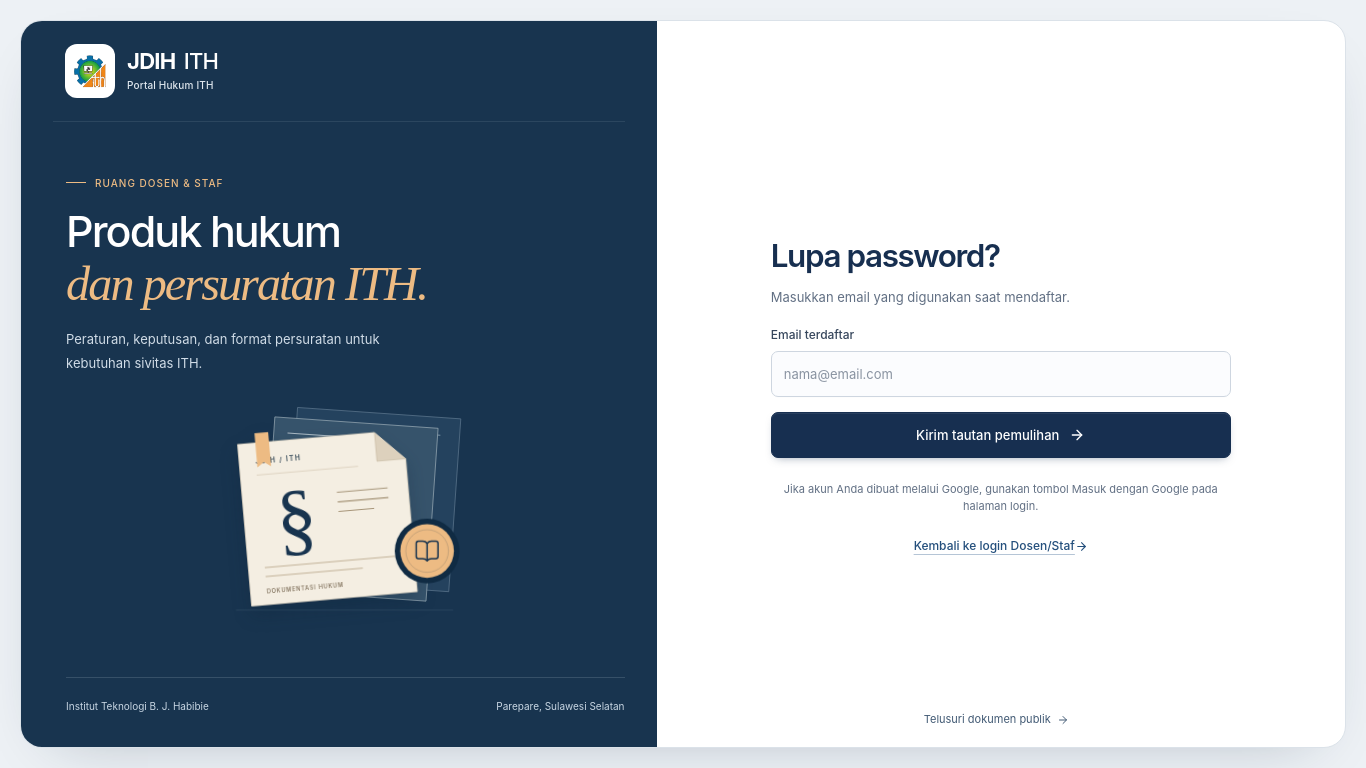
Test case: pemulihan password Dosen/Staf › meminta email dengan konfirmasi, pesan generik, dan tanpa pilihan Admin
The image size is (1366, 768).
Expected: the button "Kirim tautan pemulihan" is enabled, [771,412,1231,458]
Type "staf@example.test" into the field labelled "Email terdaftar" at (1001, 374), box [771,351,1231,397]
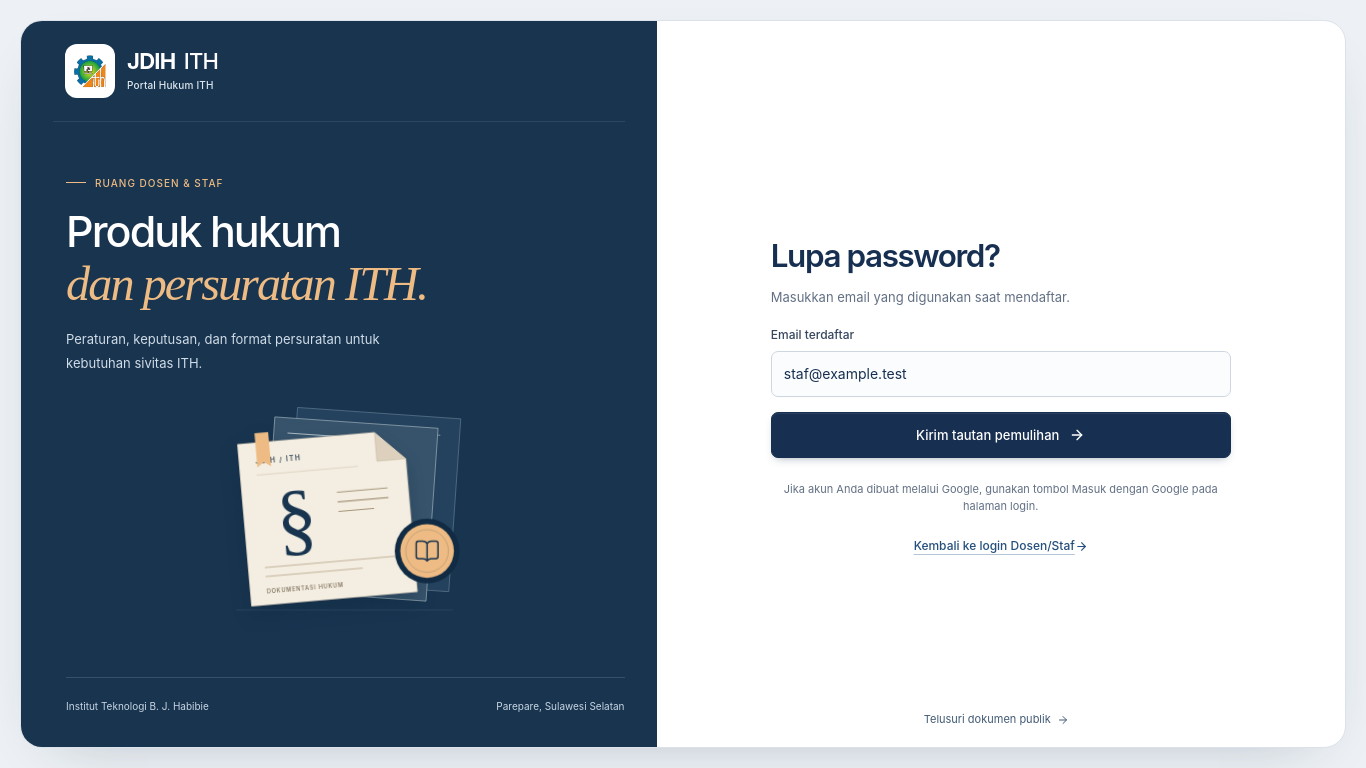
Click the button "Kirim tautan pemulihan" at (1001, 435), box [771,412,1231,458]
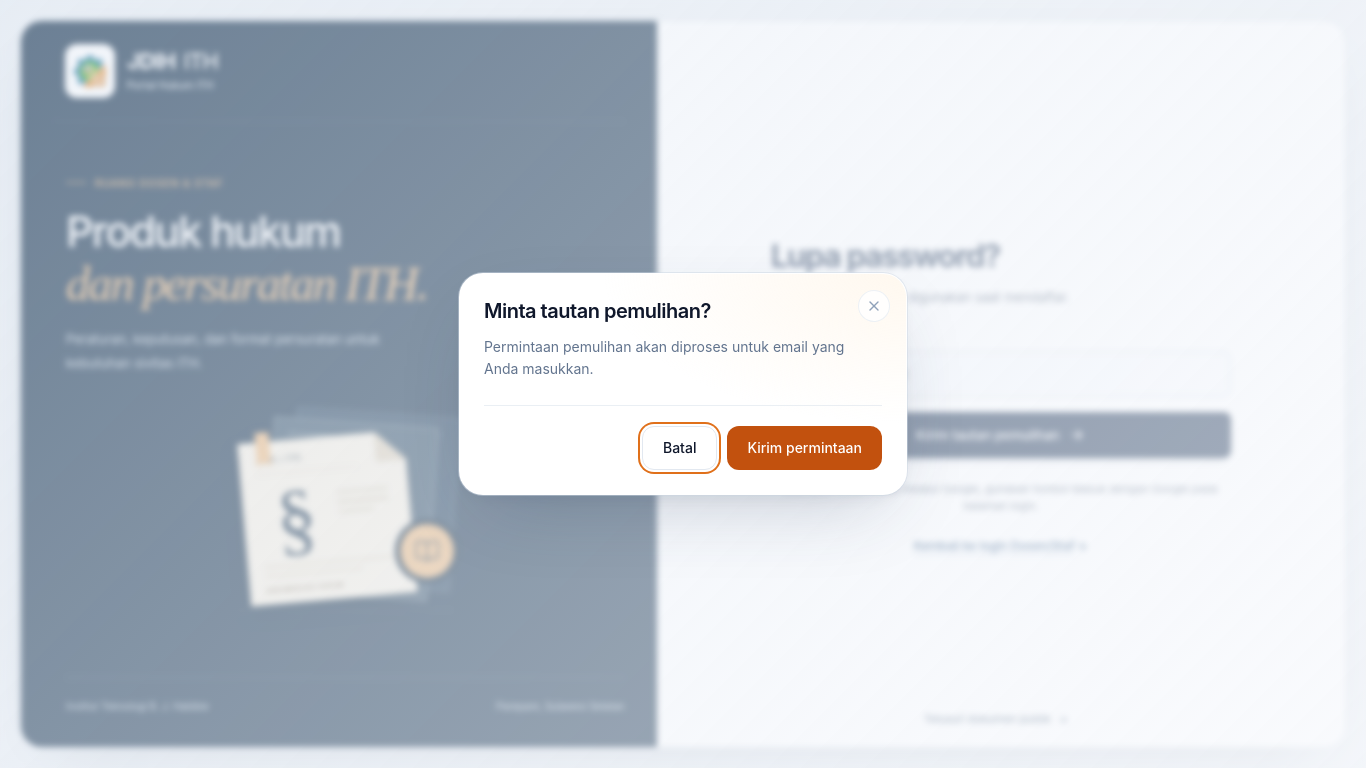
Expected: the dialog is shown, [459,273,907,495]
Click the button "Kirim permintaan" at (805, 448), box [727,426,882,470]
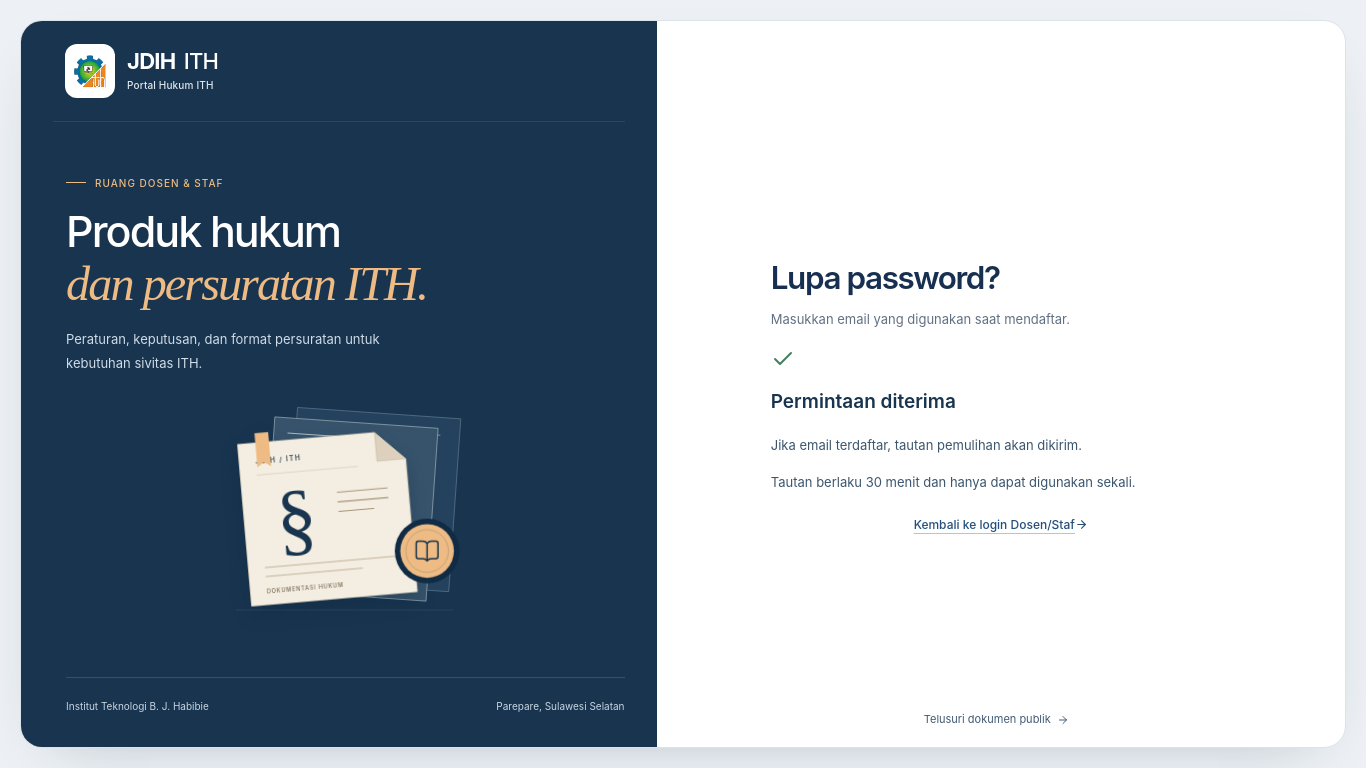
Expected: the heading "Permintaan diterima" is shown, [771,390,956,413]
